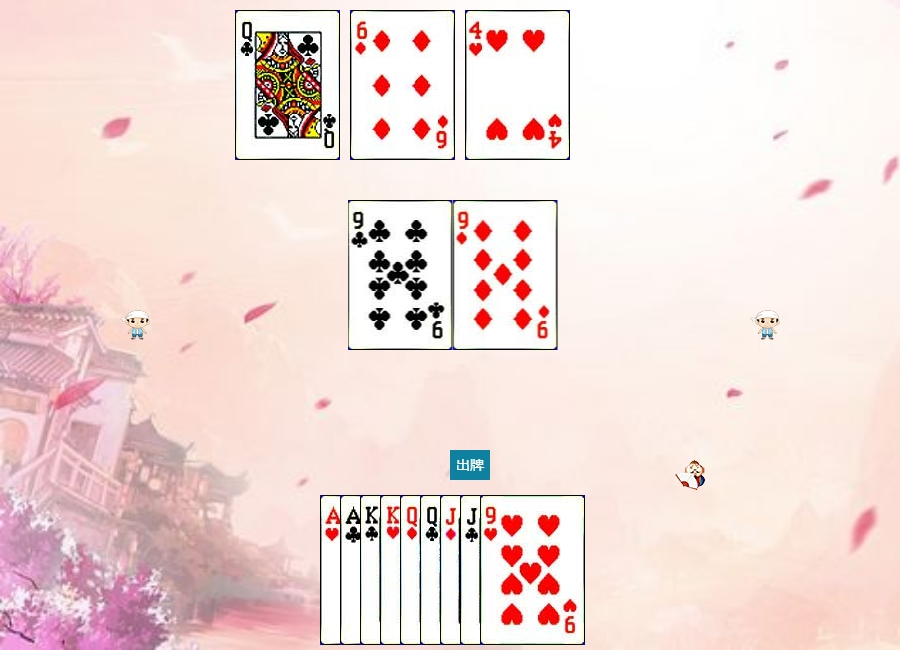11~1: (440, 495, 545, 645)
11~2: (460, 495, 565, 645)
12~1: (400, 495, 505, 645)
12~2: (235, 10, 340, 160), (420, 495, 525, 645)
13~2: (360, 495, 465, 645)
13~3: (380, 495, 485, 645)
14~2: (340, 495, 445, 645)
14~3: (320, 495, 425, 645)
4~3: (465, 10, 570, 160)
6~1: (350, 10, 455, 160)
9~1: (453, 200, 558, 350)
9~2: (348, 200, 453, 350)
9~3: (480, 495, 585, 645)
